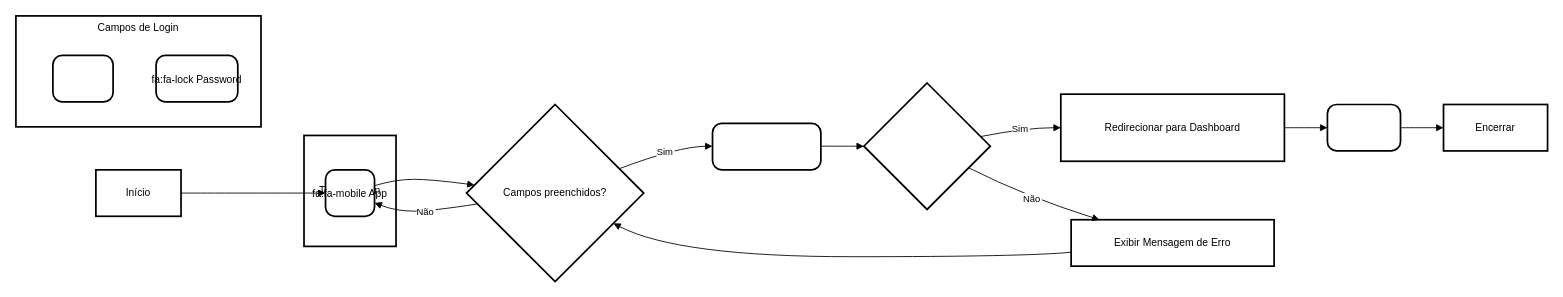
Image size: 1563x297. Some labels were removed from this diagram. Here are the shapes that lost their labels. From the top down, the centre of each, then its label:
the point at 83,78: fa:fa-envelope Email
the point at 766,146: Validar Dados
the point at 927,146: Login Válido?
the point at 1363,127: Sucesso
